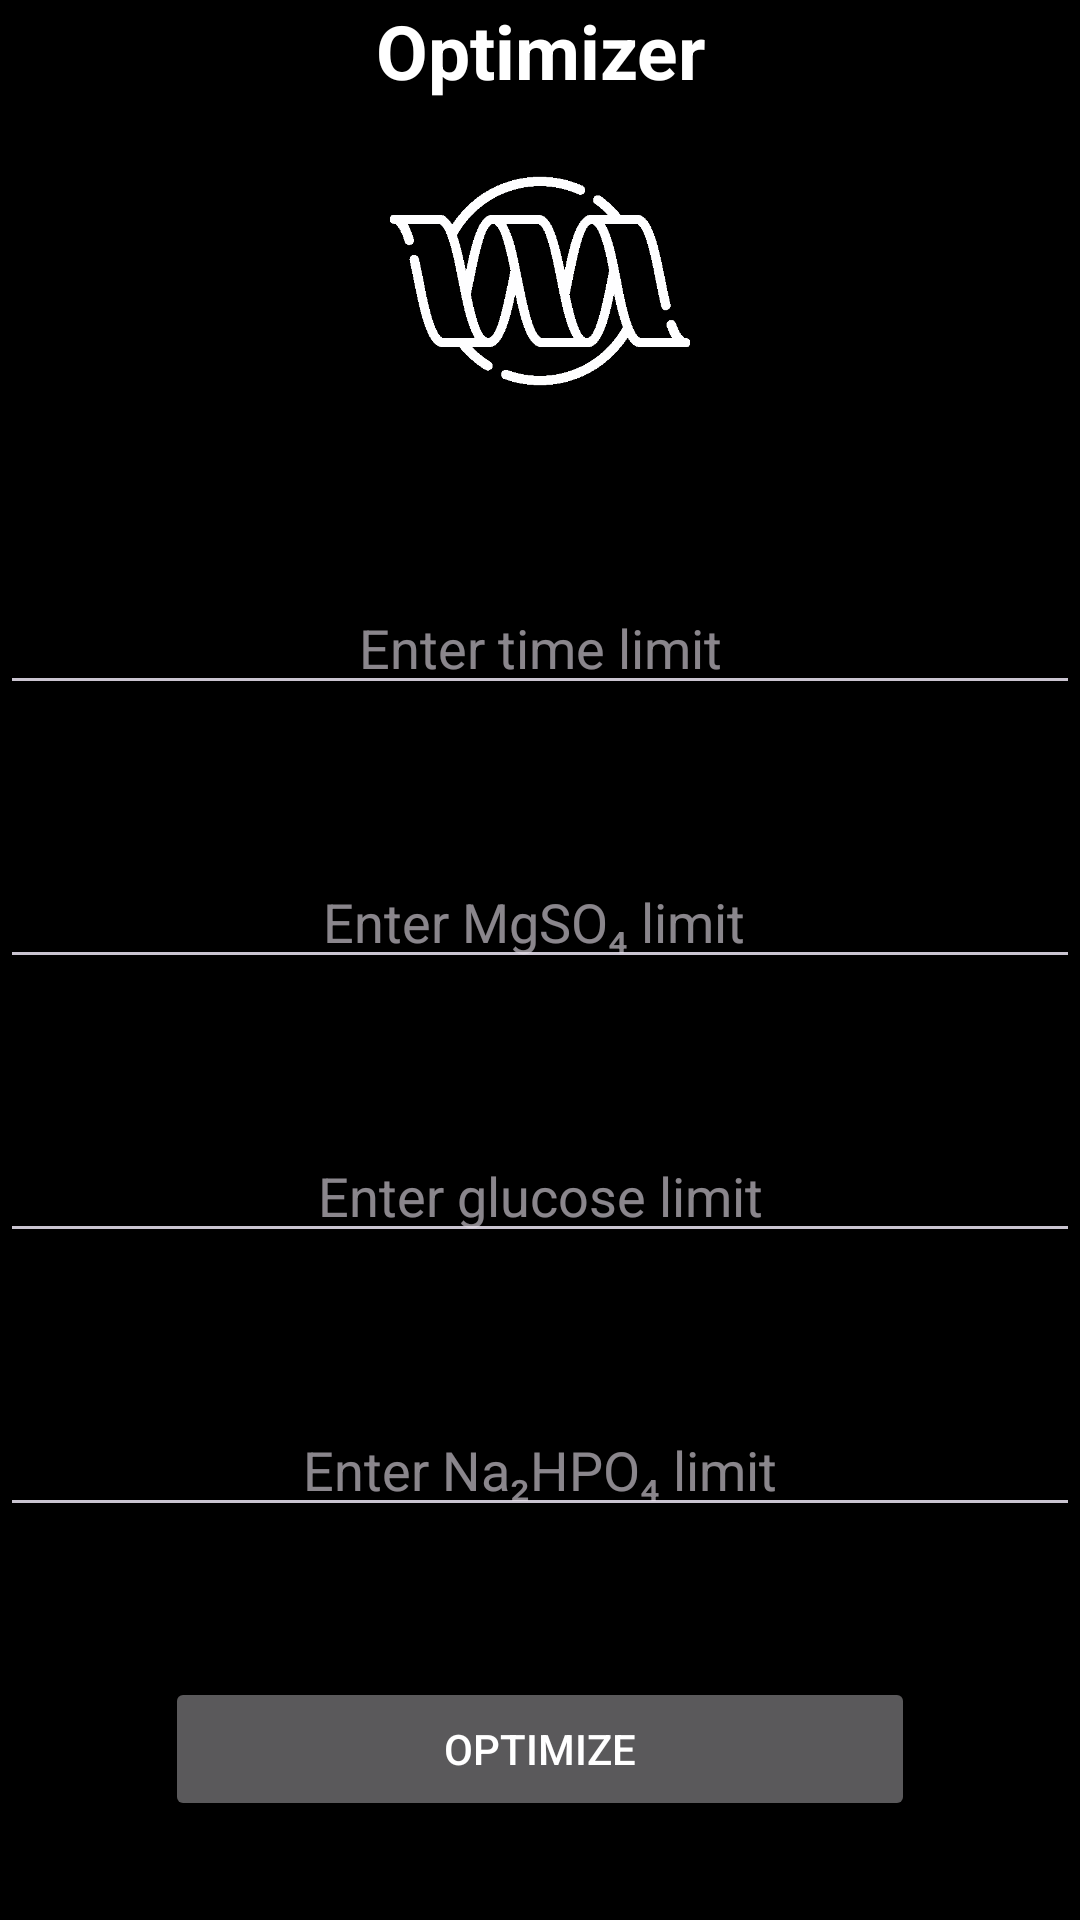

Where icons sit on this 1080x1920 app screen, as (x1, y1, x2, y2):
horizontalprotein: (390, 176, 690, 386)
